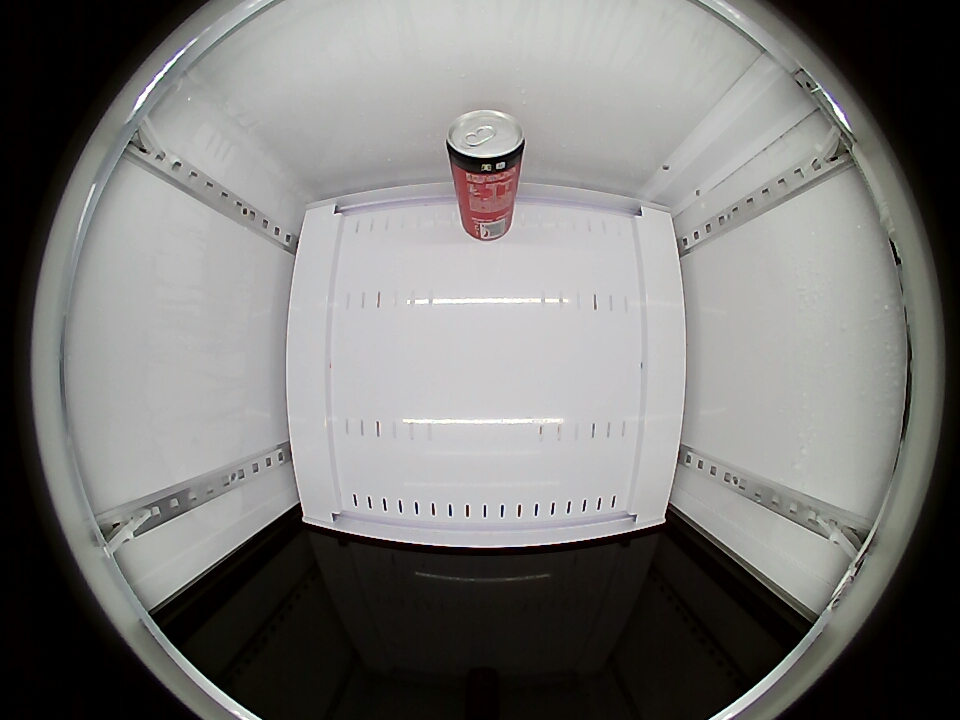lingdukele: (445, 110, 526, 181)
